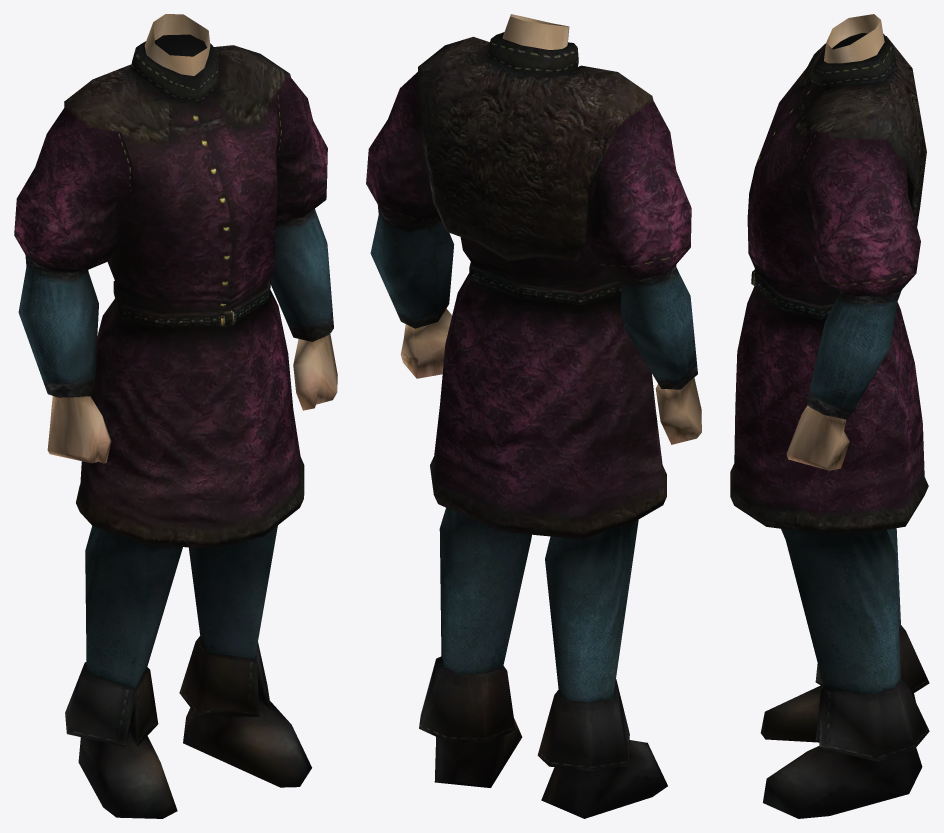
The model's file is HUM_ARMOR_RICH_MERCHANT_05.glb.
3 views of the same model, side by side, from view 1: azimuth 30°, elevation 25°; view 2: azimuth 150°, elevation 25°; view 3: azimuth 270°, elevation 25° (orthographic). The views are drawn at different scales.
Parts seen in each view (by area): view 1: HUM_ARMOR_RICH_MERCHANT_05; view 2: HUM_ARMOR_RICH_MERCHANT_05; view 3: HUM_ARMOR_RICH_MERCHANT_05.
Part boxes in pixels (x1,y1,x2,y2): HUM_ARMOR_RICH_MERCHANT_05: [14, 14, 337, 818]; HUM_ARMOR_RICH_MERCHANT_05: [366, 14, 701, 818]; HUM_ARMOR_RICH_MERCHANT_05: [730, 14, 929, 818].
Bounding box in the file's own units: 0.7034 × 1.7 × 0.4101.
Materials: 2 (2 with a texture image).
